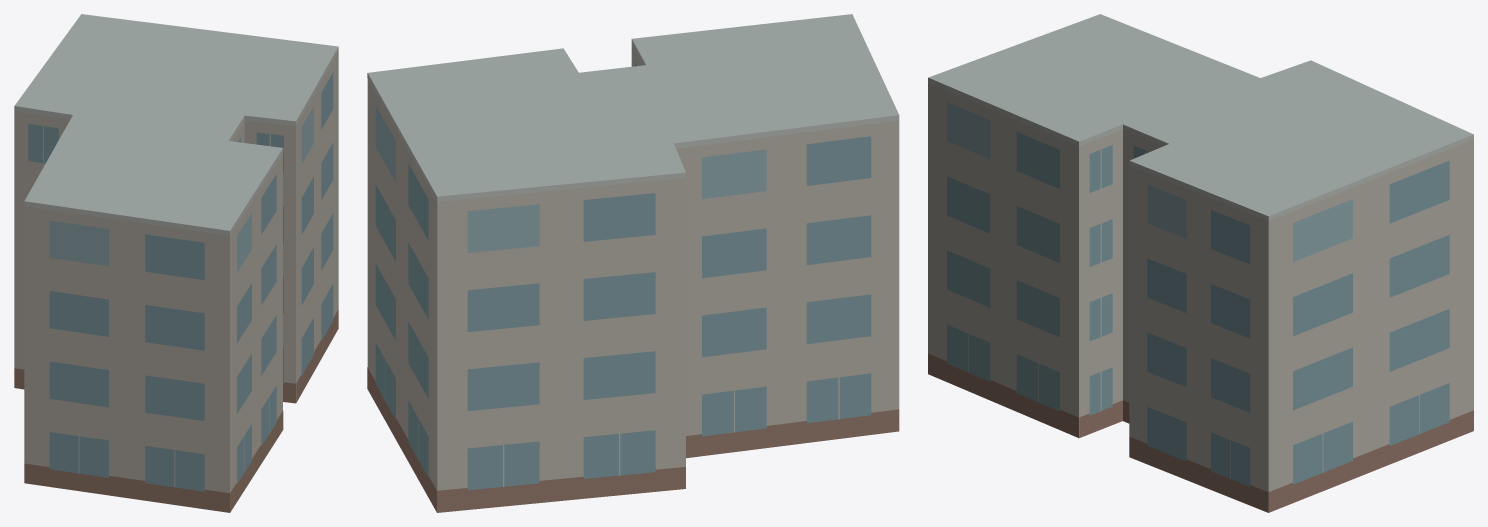
File: survey-upis-32590201.glb
3 renders of one model, left to right at view 1: azimuth 30°, elevation 25°; view 2: azimuth 150°, elevation 25°; view 3: azimuth 270°, elevation 25°, orthographic. The views are drawn at different scales.
Parts seen in each view (by area): view 1: survey-upis-32590201.tmp; view 2: survey-upis-32590201.tmp; view 3: survey-upis-32590201.tmp.
Boxes of the visible parts, x1,y1,x2,y2 form: survey-upis-32590201.tmp: (14,14,338,512); survey-upis-32590201.tmp: (367,14,899,512); survey-upis-32590201.tmp: (928,14,1473,512).
Size of the model in its own units: 20.86 by 14.25 by 23.77.
